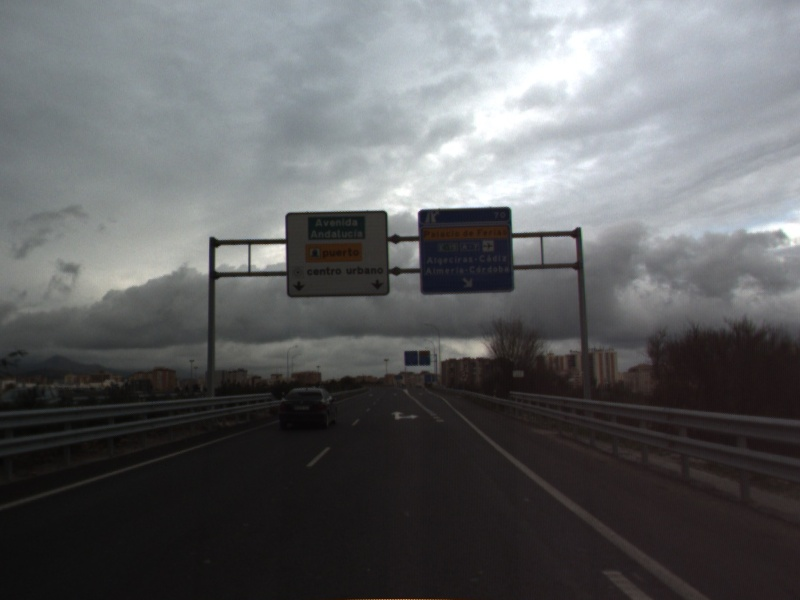STRAIGHT_RIGHT: (389, 409, 421, 422)
